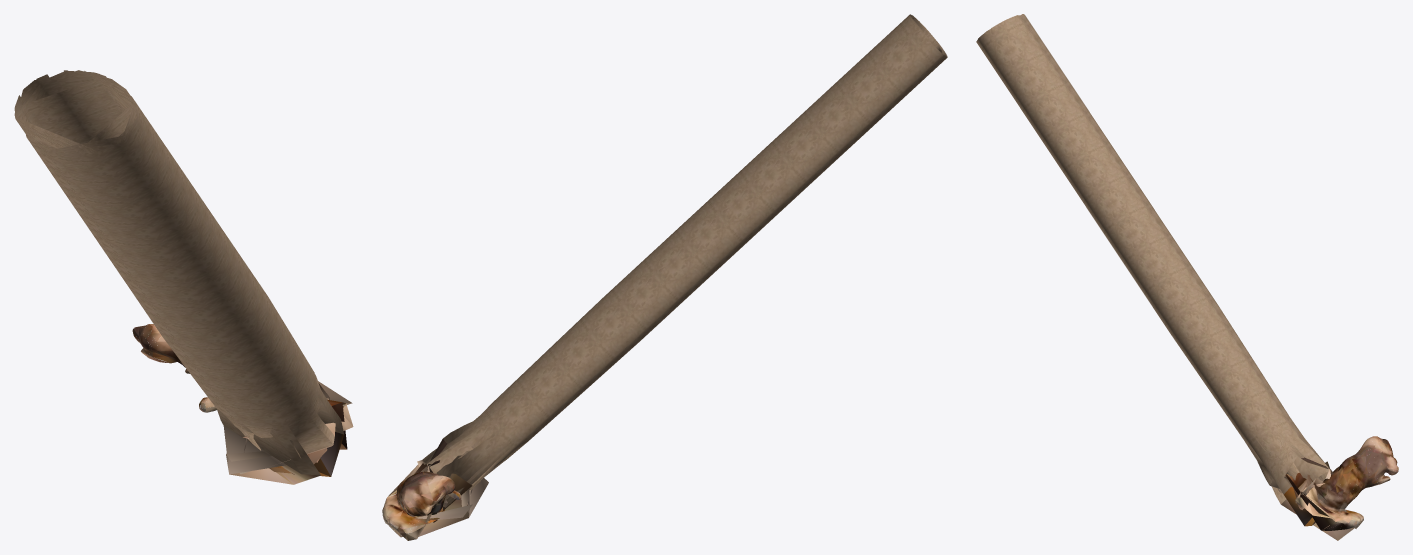
Rendered from cat-grip-v4.glb.
3 renders of one model, left to right at view 1: azimuth 30°, elevation 25°; view 2: azimuth 150°, elevation 25°; view 3: azimuth 270°, elevation 25°, orthographic. The views are drawn at different scales.
Parts seen in each view (by area): view 1: cat-card-grip; view 2: cat-card-grip; view 3: cat-card-grip.
Boxes of the visible parts, box(x1,y1,x2,y2) form: cat-card-grip: box(14, 70, 353, 484); cat-card-grip: box(382, 14, 947, 540); cat-card-grip: box(976, 14, 1398, 540).
Size of the model in its own units: 0.9627 by 1.13 by 1.1.
Materials: 2 (2 with a texture image).
